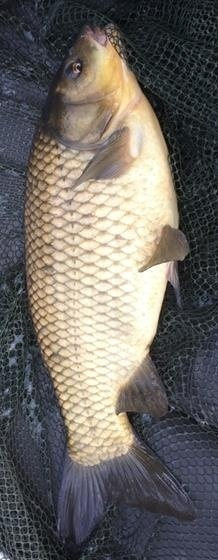Carassius carassius: (20, 20, 198, 540)
